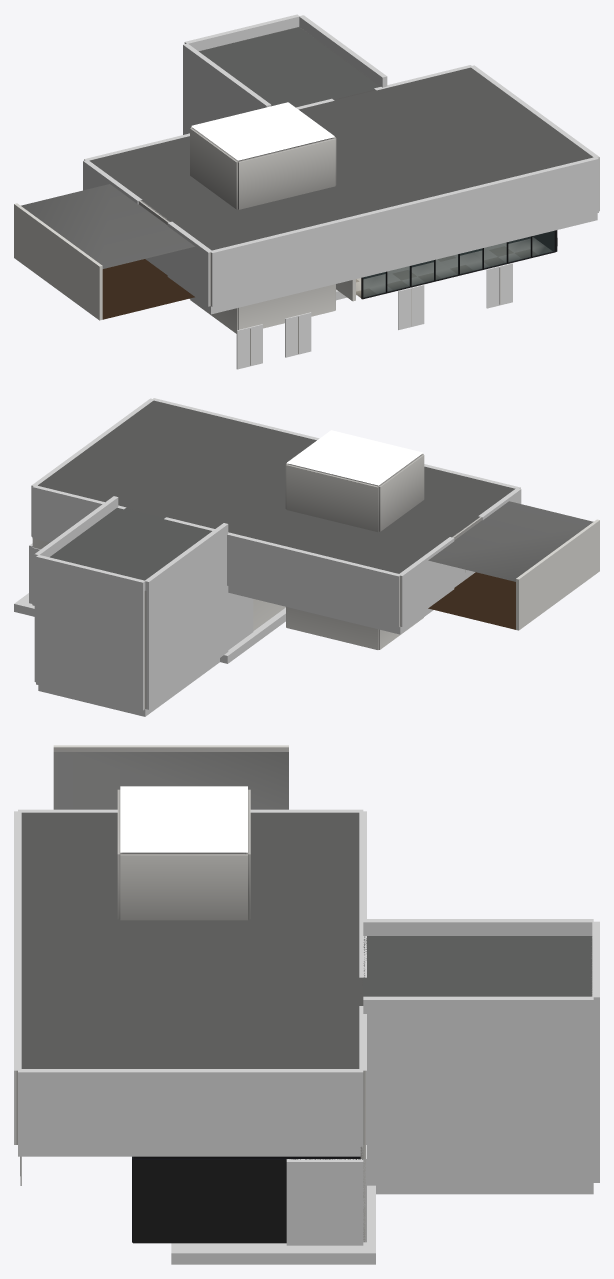
The model's file is zone_04_corridor.glb.
3 renders of one model, top to bottom at view 1: azimuth 30°, elevation 25°; view 2: azimuth 150°, elevation 25°; view 3: azimuth 270°, elevation 25°, orthographic. The views are drawn at different scales.
Parts seen in each view (by area): view 1: ENV_tang_tren, COL_tren_tuong_nam, ENV_cau_thang, ENV_tang_tret, COL_thang_tuong_tay, COL_san_tren, COL_tren_tuong_tay_nam, COL_thang_tuong_bac, COL_thang_tuong_dong, COL_tren_tuong_tay_bac, COL_tren_tuong_dong, COL_tren_tuong_bac_trai; view 2: ENV_tang_tren, COL_thang_tuong_bac, COL_thang_tuong_tay, COL_tren_tuong_bac_trai, ENV_cau_thang, COL_tren_tuong_tay_bac, COL_tren_tuong_bac_phai, COL_san_tren, COL_thang_tuong_dong, COL_san_tret, COL_dau_hanh_lang_tay, COL_san_sanh_thang (+3 smaller); view 3: ENV_tang_tren, COL_thang_tuong_dong, COL_tren_tuong_dong, ENV_tang_tret, ENV_cau_thang, COL_dau_hanh_lang_dong, COL_san_tret, COL_thang_tuong_tay, COL_san_tren, COL_tren_tuong_nam, COL_san_sanh_thang, COL_thang_tuong_bac (+1 smaller).
Boxes of the visible parts, x1,y1,x2,y2 form: ENV_tang_tren: (14, 67, 599, 369); COL_tren_tuong_nam: (211, 157, 598, 306); ENV_cau_thang: (199, 27, 380, 107); ENV_tang_tret: (336, 230, 557, 301); COL_thang_tuong_tay: (183, 43, 271, 134); COL_san_tren: (189, 213, 597, 314); COL_tren_tuong_tay_nam: (167, 221, 212, 306); COL_thang_tuong_bac: (184, 14, 299, 51); COL_thang_tuong_dong: (299, 15, 387, 87); COL_tren_tuong_tay_bac: (83, 159, 142, 204); COL_tren_tuong_dong: (471, 65, 599, 211); COL_tren_tuong_bac_trai: (84, 98, 334, 160); ENV_tang_tren: (32, 400, 599, 649); COL_thang_tuong_bac: (36, 555, 145, 710); COL_thang_tuong_tay: (145, 523, 228, 709); COL_tren_tuong_bac_trai: (164, 517, 399, 627); ENV_cau_thang: (50, 508, 211, 709); COL_tren_tuong_tay_bac: (398, 537, 454, 626); COL_tren_tuong_bac_phai: (32, 485, 126, 542); COL_san_tren: (228, 586, 433, 634); COL_thang_tuong_dong: (34, 496, 118, 682); COL_san_tret: (14, 593, 285, 663); COL_dau_hanh_lang_tay: (228, 593, 253, 649); COL_san_sanh_thang: (38, 658, 219, 716); ENV_tang_tren: (15, 745, 365, 1185); COL_thang_tuong_dong: (363, 996, 593, 1185); COL_tren_tuong_dong: (18, 1069, 363, 1146); ENV_tang_tret: (132, 1145, 365, 1243); ENV_cau_thang: (363, 936, 592, 996); COL_dau_hanh_lang_dong: (286, 1159, 363, 1245); COL_san_tret: (171, 1185, 375, 1264); COL_thang_tuong_tay: (363, 919, 593, 935); COL_san_tren: (18, 1146, 363, 1156); COL_tren_tuong_nam: (14, 811, 21, 1144); COL_san_sanh_thang: (376, 1185, 593, 1194); COL_thang_tuong_bac: (592, 921, 599, 1182).
Bounding box in the file's own units: 31.1 × 10.83 × 22.9.
